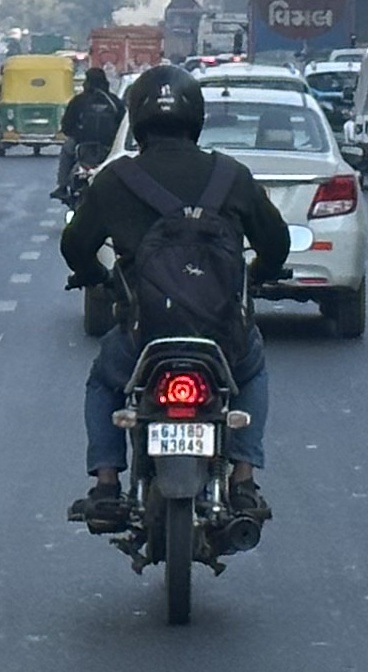BikeWithRider: (53, 60, 319, 633), (44, 60, 128, 227)
Helmet: (119, 61, 212, 151)
NoHelmet: (80, 63, 111, 96)
